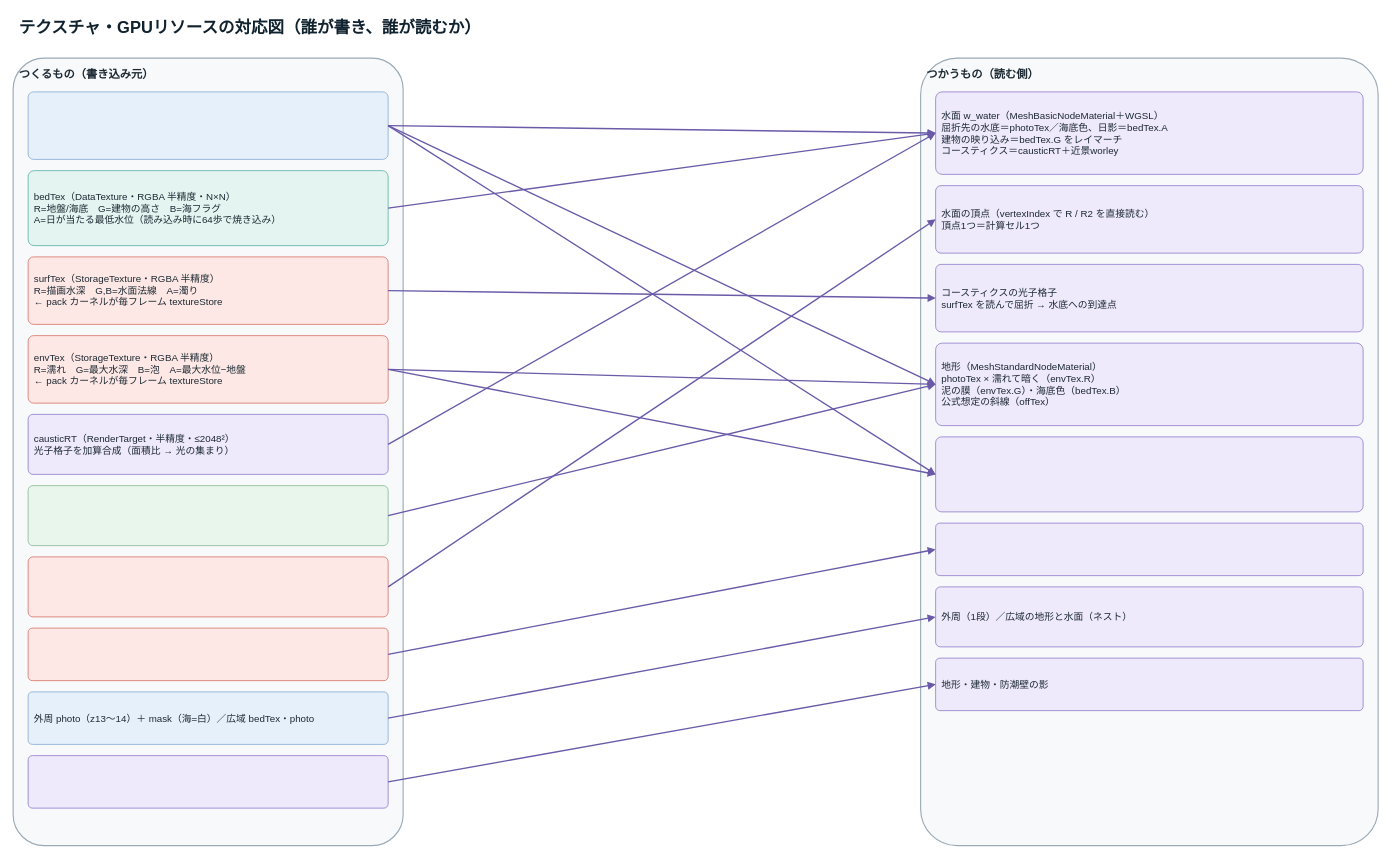
Some shapes in this 1392 by 859 pixel diagram are drawn without their labels. Here are the shapes that lost their labels. From the top down, the centre of each, then its label:
At point 207,125: "photoTex（CanvasTexture・sRGB・ミップマップ） 地理院航空写真 z16〜17 を 3072〜4096px に貼り合わせ".
At point 1149,474: "建物（押し出し） 壁＝手続き的な窓と色、屋根＝photoTex 泥線＝外側で読んだ envTex.A の高さまで暗く".
At point 207,515: "offTex（CanvasTexture 2048²） 公式想定100mセルを深さ色の斜線＋輪郭で描画".
At point 1149,549: "飛沫スプライト（Sprite.count＝2^17）".
At point 207,586: "R / R2（ストレージバッファ・f32 vec4） 描画水位・法線・水深／泡・濁り・流速".
At point 207,654: "P / V（ストレージバッファ） 飛沫の位置・寿命／速度・大きさ".
At point 207,781: "影マップ（2048² / 4096²） 太陽は固定 → autoUpdate=false で1回だけ".
